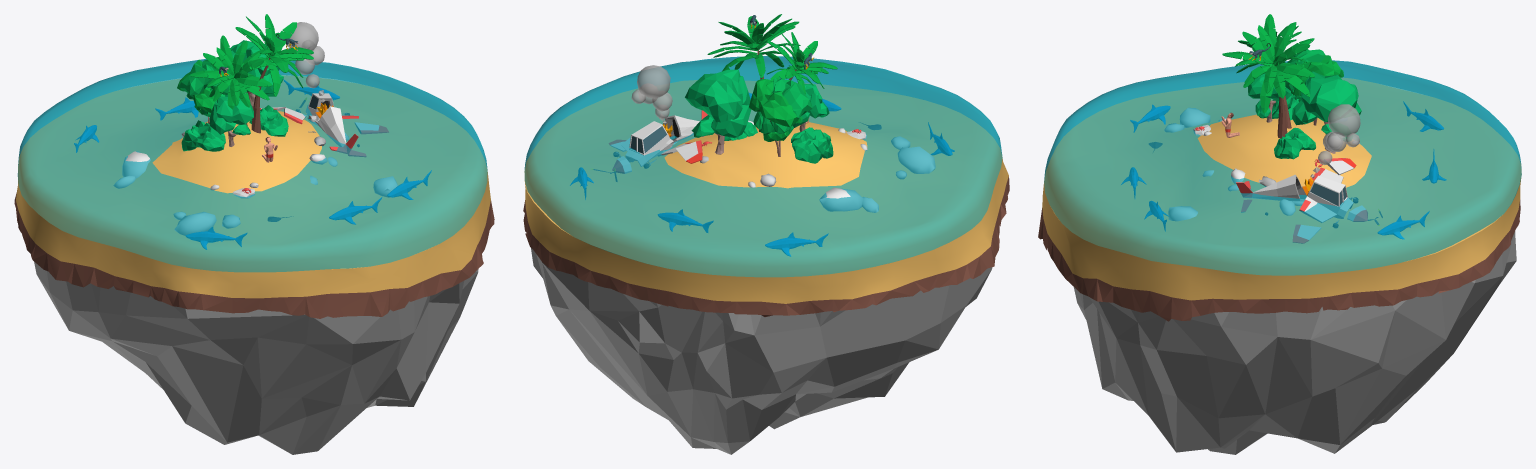
The model's file is land_15.fbx.
3 views of the same model, side by side, from view 1: azimuth 30°, elevation 25°; view 2: azimuth 150°, elevation 25°; view 3: azimuth 270°, elevation 25° (orthographic). The views are drawn at different scales.
Parts seen in each view (by area): view 1: Cylinder.010, Cylinder.002, land_14.071, land_15.006, land_15.008, land_15.003, land_15.005, land_15.001, land_15.029, land_15.007, land_15.002, land_15.010 (+2 smaller); view 2: Cylinder.010, Cylinder.002, land_14.071, land_15.007, land_15.005, land_15.008, land_15.006, land_15.026, land_15.001, land_15.010, land_15.003, land_15.029 (+1 smaller); view 3: Cylinder.010, Cylinder.002, land_14.071, land_15.008, land_15.007, land_15.026, land_15.005, land_15.029, land_15.010, land_15.002, land_15.003.
Boxes of the visible parts, x1,y1,x2,y2 form: Cylinder.010: (14,75,494,318); Cylinder.002: (17,59,487,272); land_14.071: (34,261,478,454); land_15.006: (190,35,272,125); land_15.008: (233,14,313,133); land_15.003: (209,94,253,146); land_15.005: (177,57,229,124); land_15.001: (181,120,225,151); land_15.029: (314,106,358,153); land_15.007: (230,40,283,108); land_15.002: (249,105,288,136); land_15.010: (287,22,318,50); Cylinder.010: (523,80,1009,316); Cylinder.002: (524,56,1002,277); land_14.071: (531,248,992,454); land_15.007: (685,69,750,154); land_15.005: (749,77,812,156); land_15.008: (707,14,800,131); land_15.006: (766,32,837,94); land_15.026: (621,121,673,166); land_15.001: (791,127,833,163); land_15.010: (637,65,670,98); land_15.003: (793,83,829,131); land_15.029: (665,110,707,142); Cylinder.010: (1038,78,1521,321); Cylinder.002: (1044,60,1521,275); land_14.071: (1073,231,1516,454); land_15.008: (1222,14,1314,138); land_15.007: (1292,71,1361,153); land_15.026: (1299,175,1353,222); land_15.005: (1284,49,1343,125); land_15.029: (1236,174,1306,200); land_15.010: (1328,104,1360,137); land_15.002: (1274,127,1315,159); land_15.003: (1248,73,1293,122).
Bounding box in the file's own units: 20.27 × 19.65 × 20.28.
